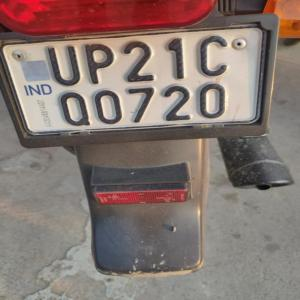Plate: (13, 26, 256, 133)
